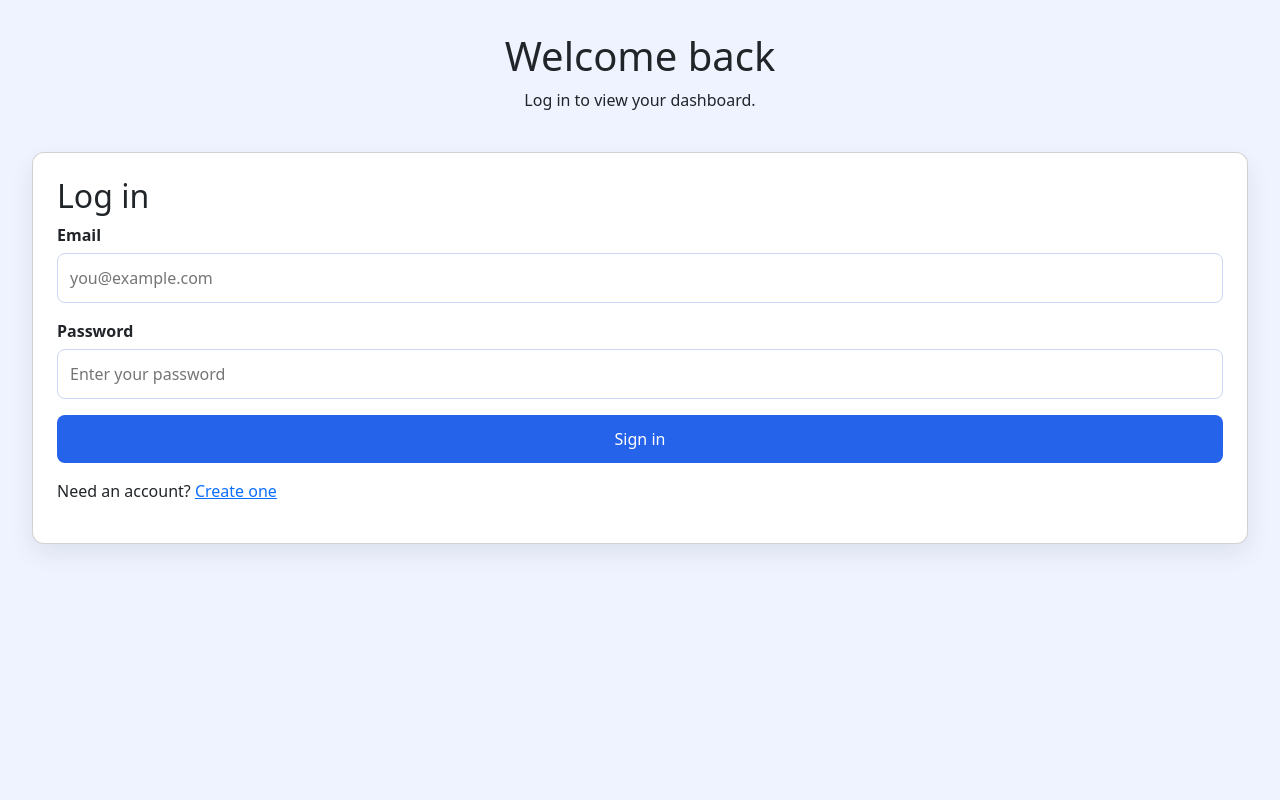
Test: Login flow › navigates to dashboard after successful login
In the field labelled "Email": (640, 278) [57, 253, 1223, 303], type "casey@example.com"
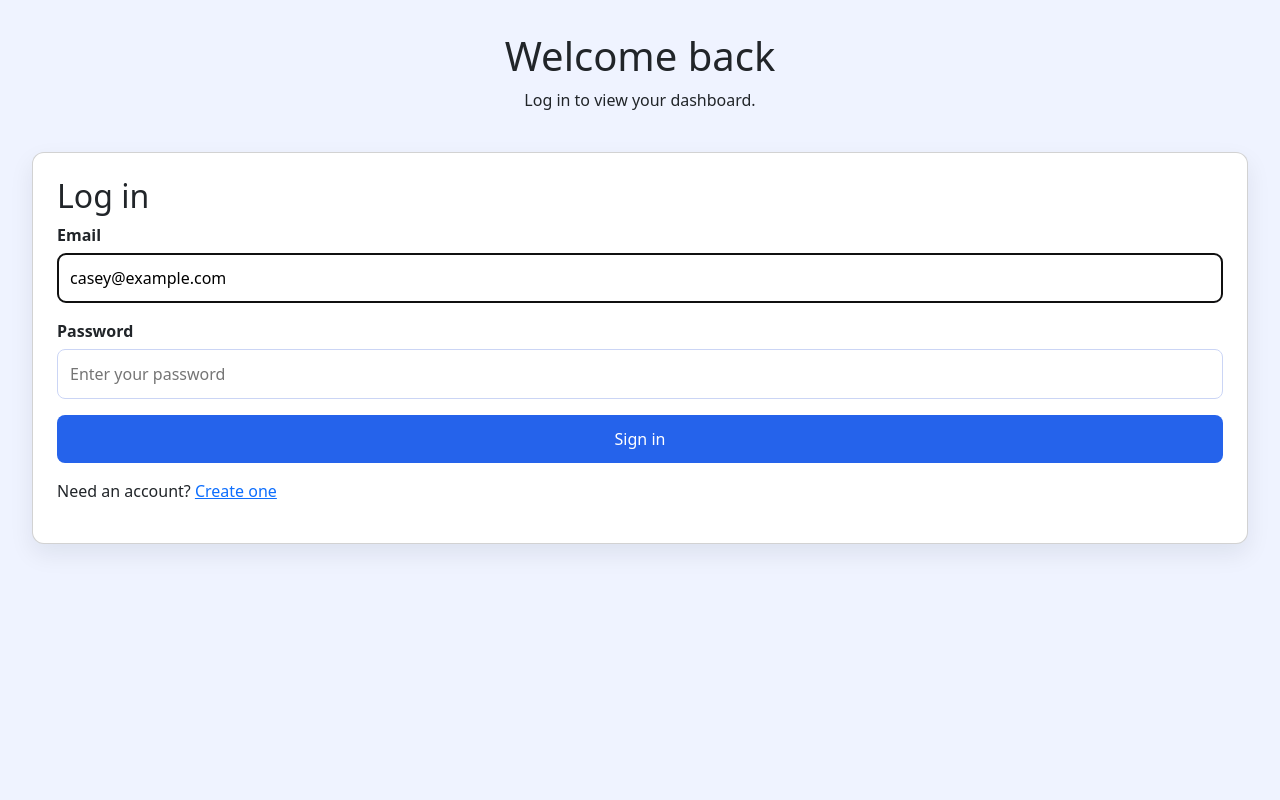
In the password field labelled "Password": (640, 374) [57, 349, 1223, 399], type "secret123"
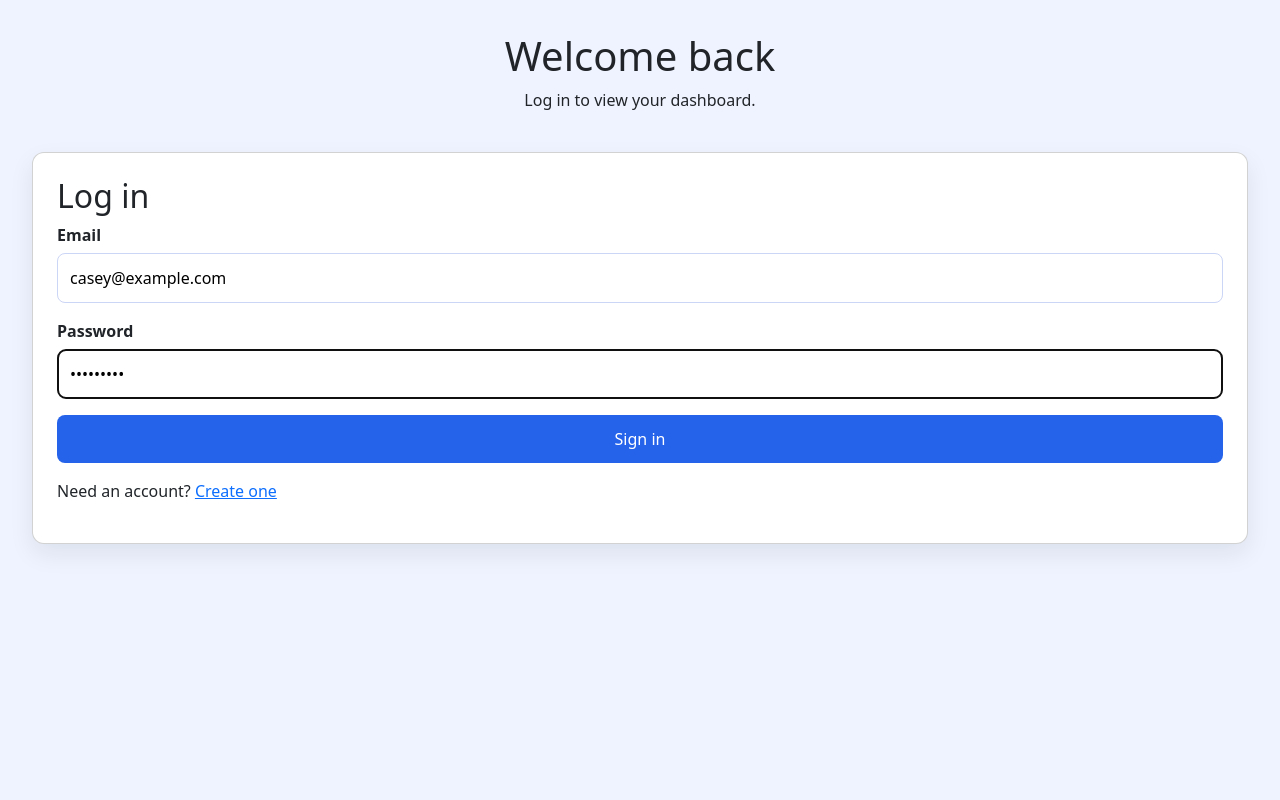
Click the button "Sign in": (640, 439) [57, 415, 1223, 463]
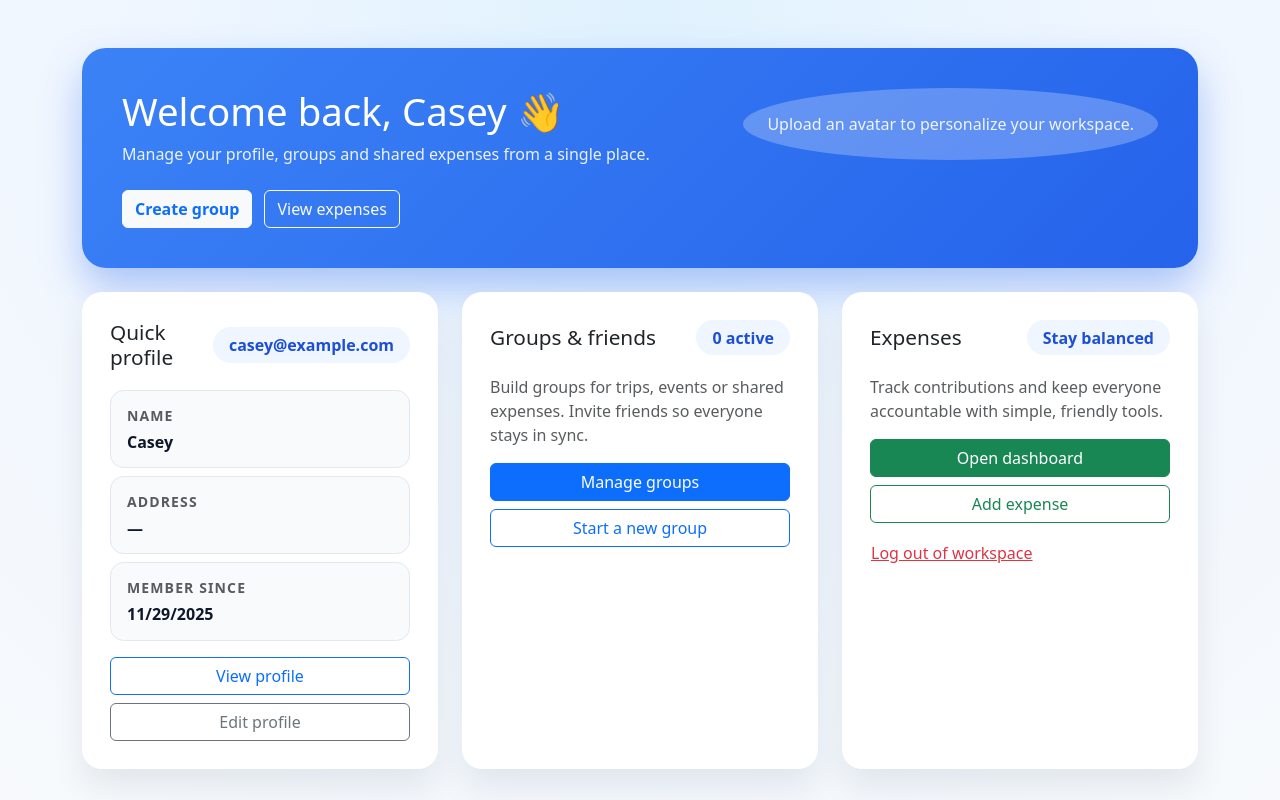
expect the heading "Welcome back, Casey 👋" is shown: met, box [122, 85, 565, 137]
expect the link "Create group" is shown: met, box [122, 190, 252, 228]
